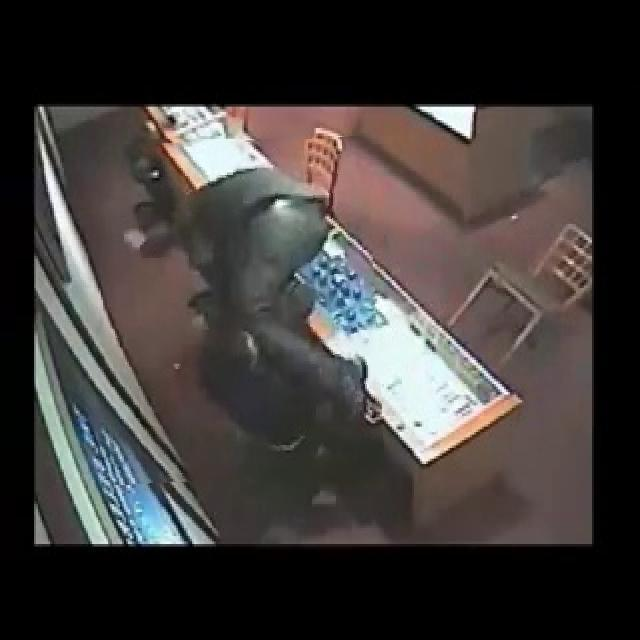Shoplifting: (100, 139, 380, 482)
